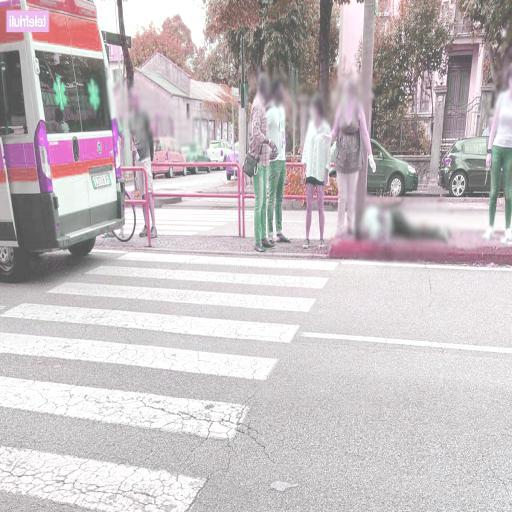crosswalk: (0, 299, 308, 388)
